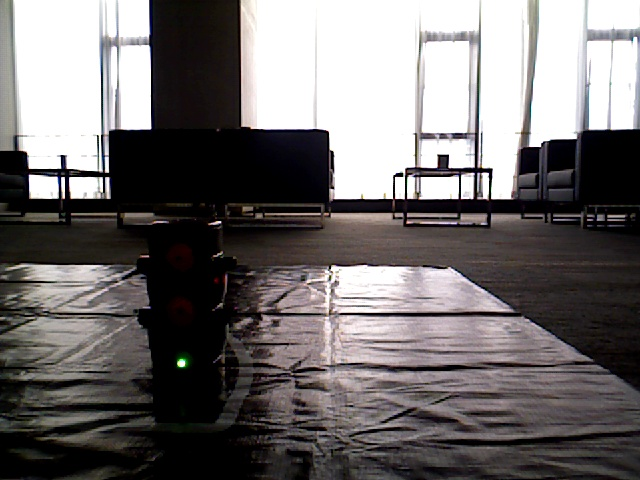green: (155, 223, 211, 370)
